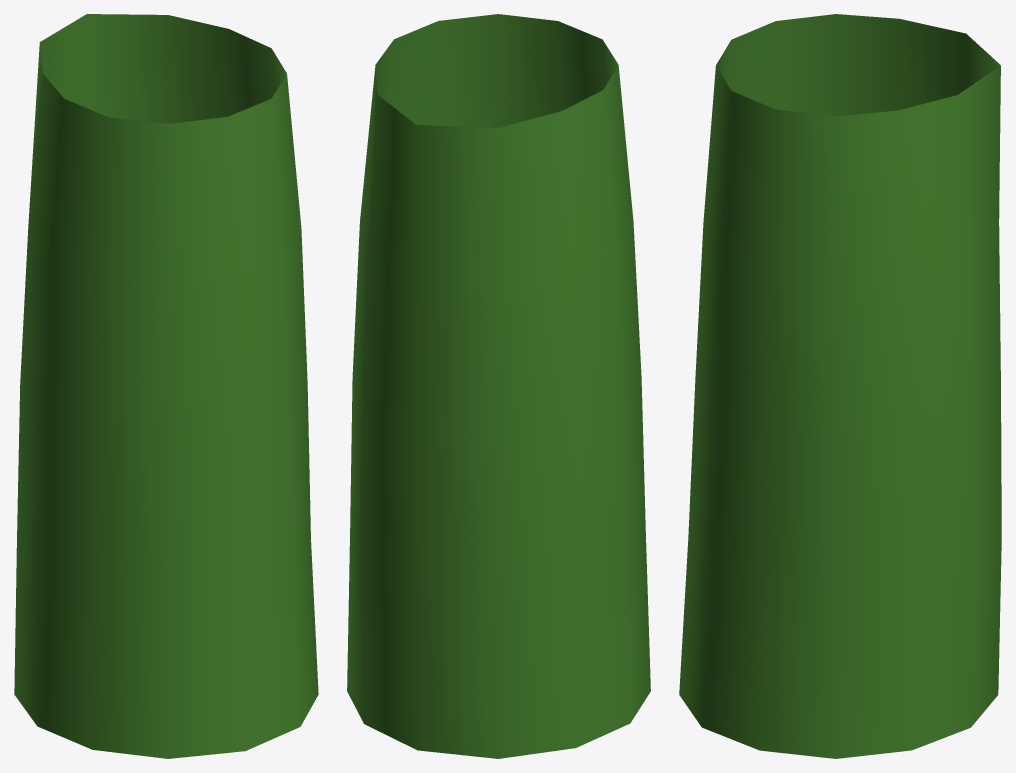
The model's file is jungle_armor_greave.L.glb.
The picture shows the model from 3 angles, left to right: view 1: azimuth 30°, elevation 25°; view 2: azimuth 150°, elevation 25°; view 3: azimuth 270°, elevation 25°; orthographic projection.
Parts seen in each view (by area): view 1: jungle_armor_greave.L; view 2: jungle_armor_greave.L; view 3: jungle_armor_greave.L.
Part boxes in pixels (bbox=[...]): jungle_armor_greave.L: bbox=[14, 14, 318, 758]; jungle_armor_greave.L: bbox=[347, 14, 650, 758]; jungle_armor_greave.L: bbox=[679, 14, 1001, 758].
Bounding box in the file's own units: 0.1654 × 0.3767 × 0.175.
